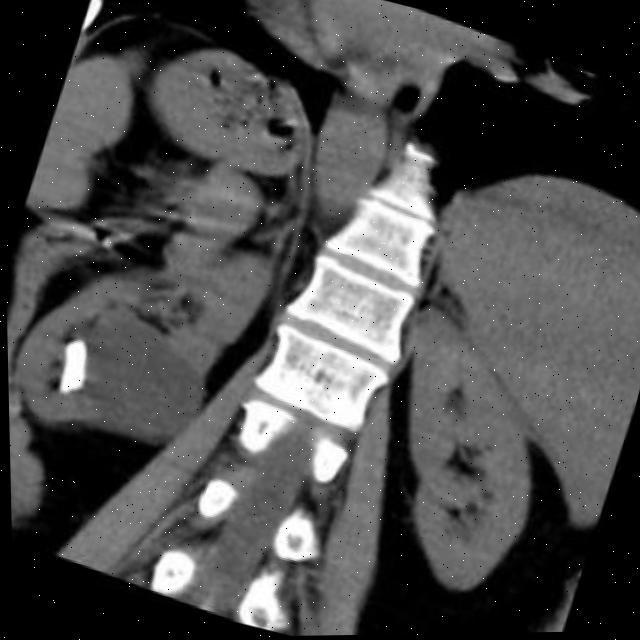Tas_Var: (38, 324, 102, 410)
